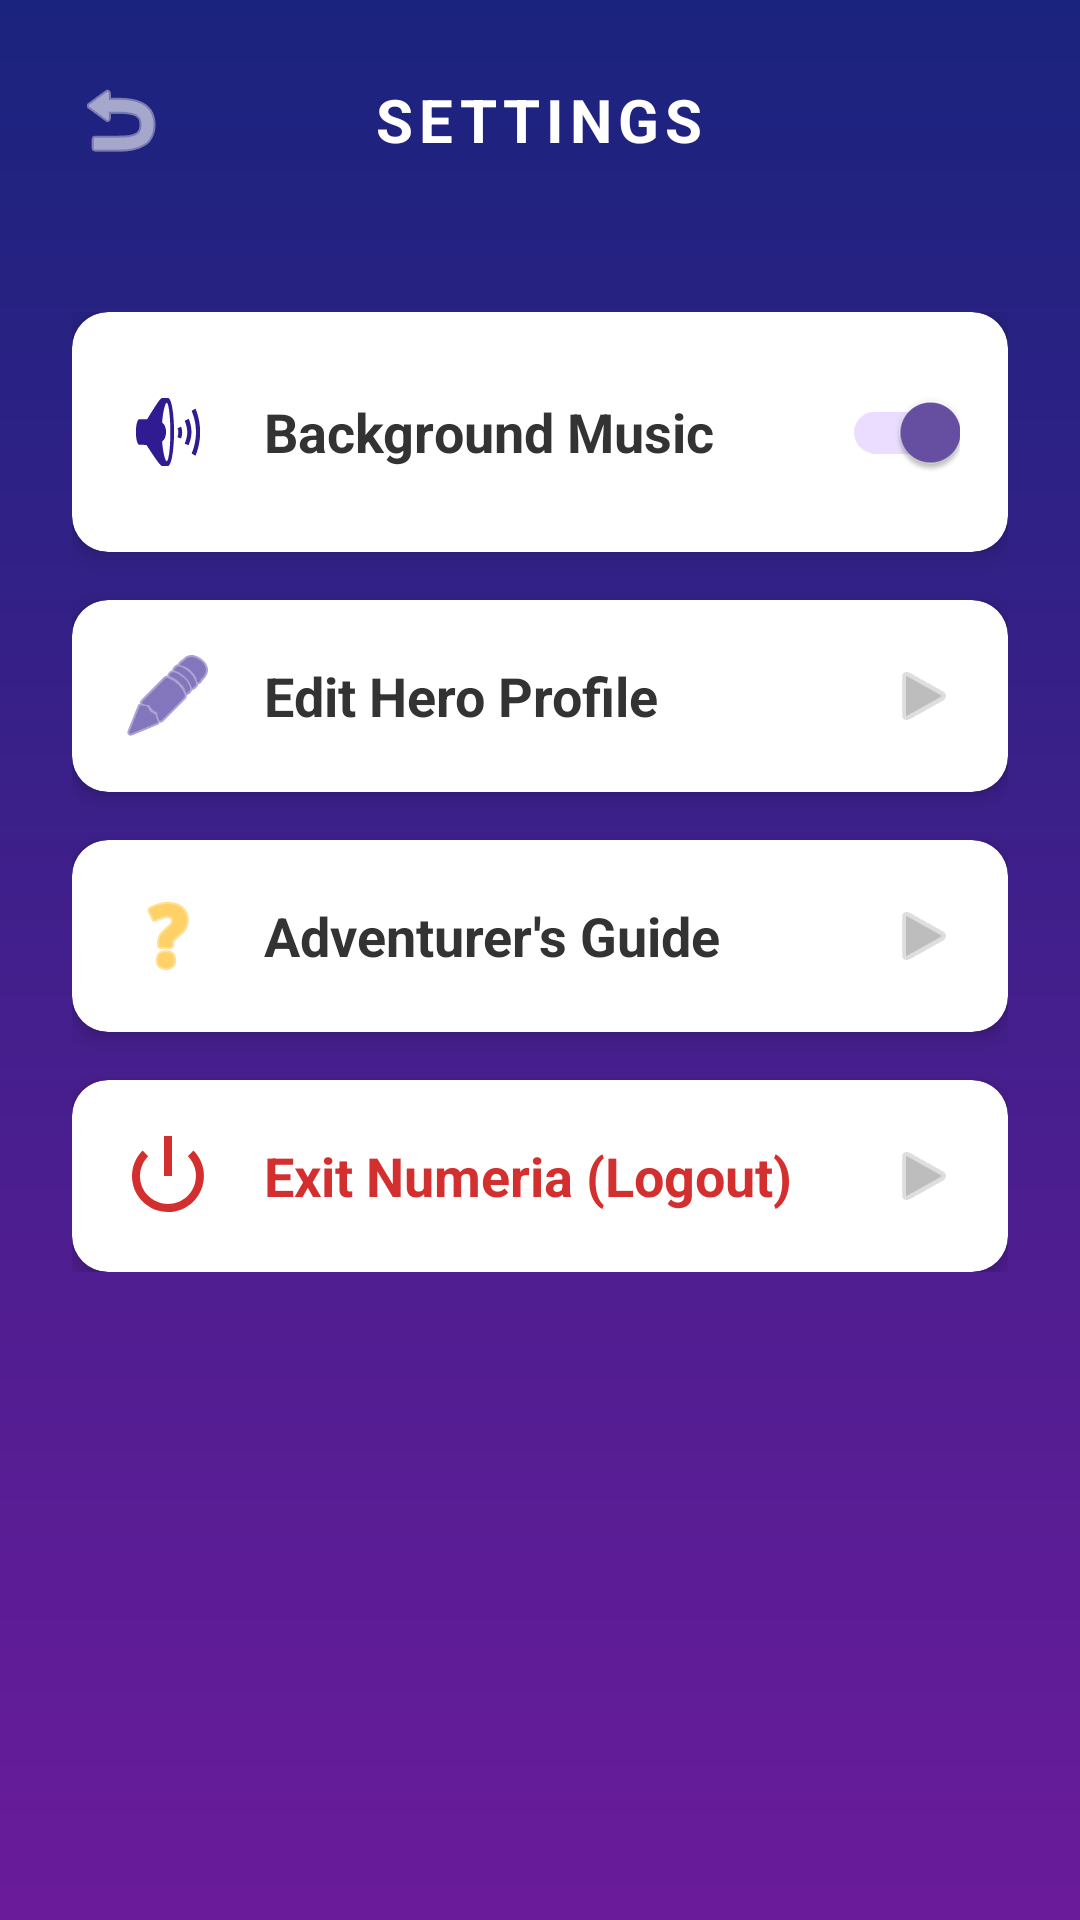

Icons on this 1080w x 1920h Android screen, each with the point to tap as (x,y):
help: (168,936)
lock power off: (168,1174)
lock silent mode off: (168,432)
play: (924,696), (924,936), (924,1176)
revert: (121,120)
